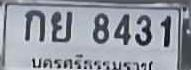1: (160, 15, 170, 46)
3: (134, 14, 151, 45)
4: (113, 13, 130, 44)
8: (92, 12, 108, 43)
A01: (24, 8, 44, 40)
A34: (50, 10, 72, 42)
NST: (29, 51, 156, 70)
